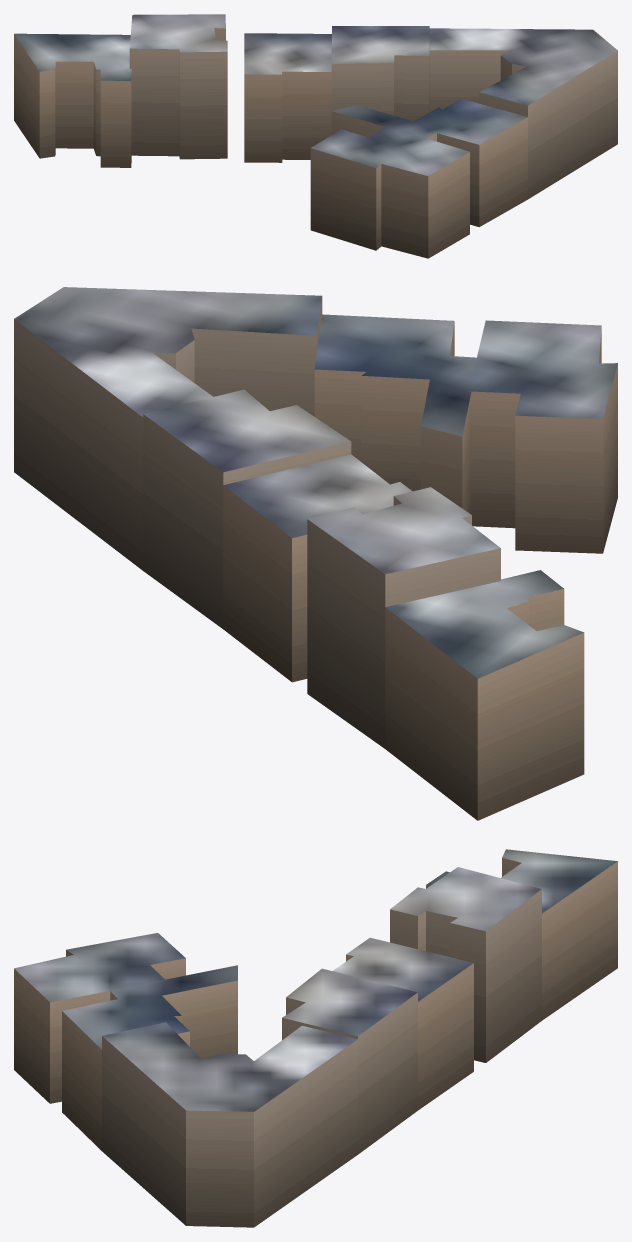
The picture shows the model from 3 angles, top to bottom: view 1: azimuth 30°, elevation 25°; view 2: azimuth 150°, elevation 25°; view 3: azimuth 270°, elevation 25°; orthographic projection. The views are drawn at different scales.
Size of the model in its own units: 63.91 by 14.48 by 60.13.
Materials: 2 (2 with a texture image).
